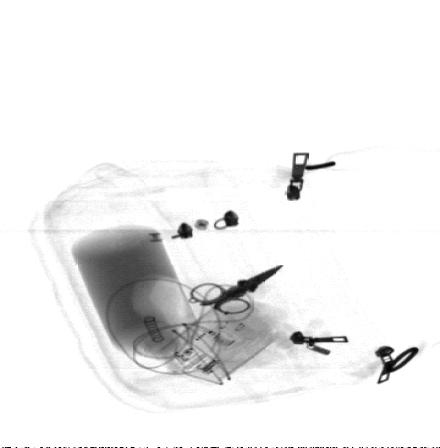Scissors: (190, 263, 284, 314)
